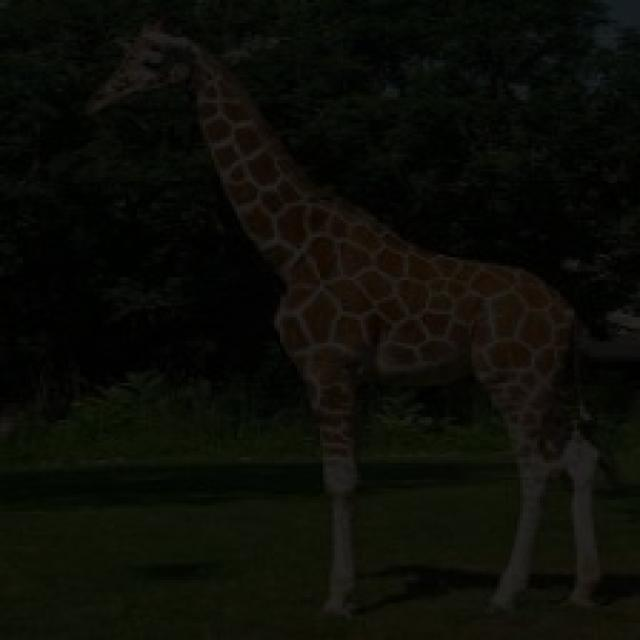bear: (102, 48, 614, 604)
